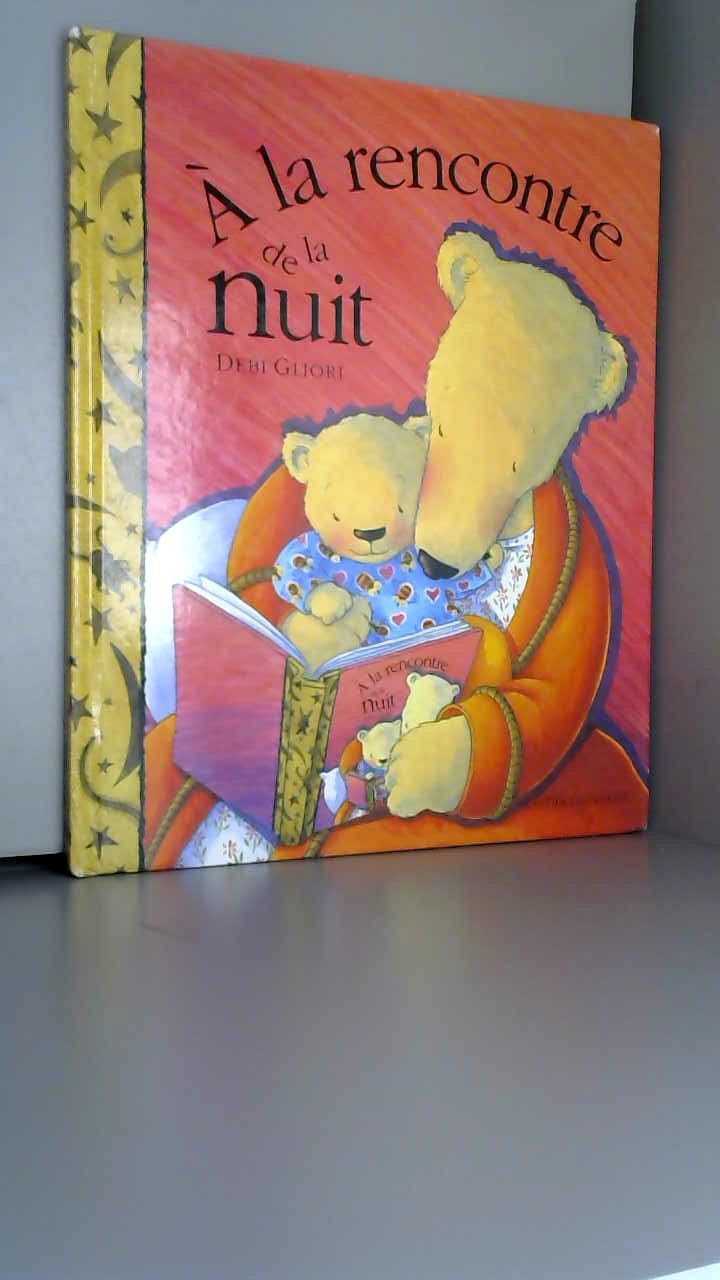book: (20, 0, 686, 908)
